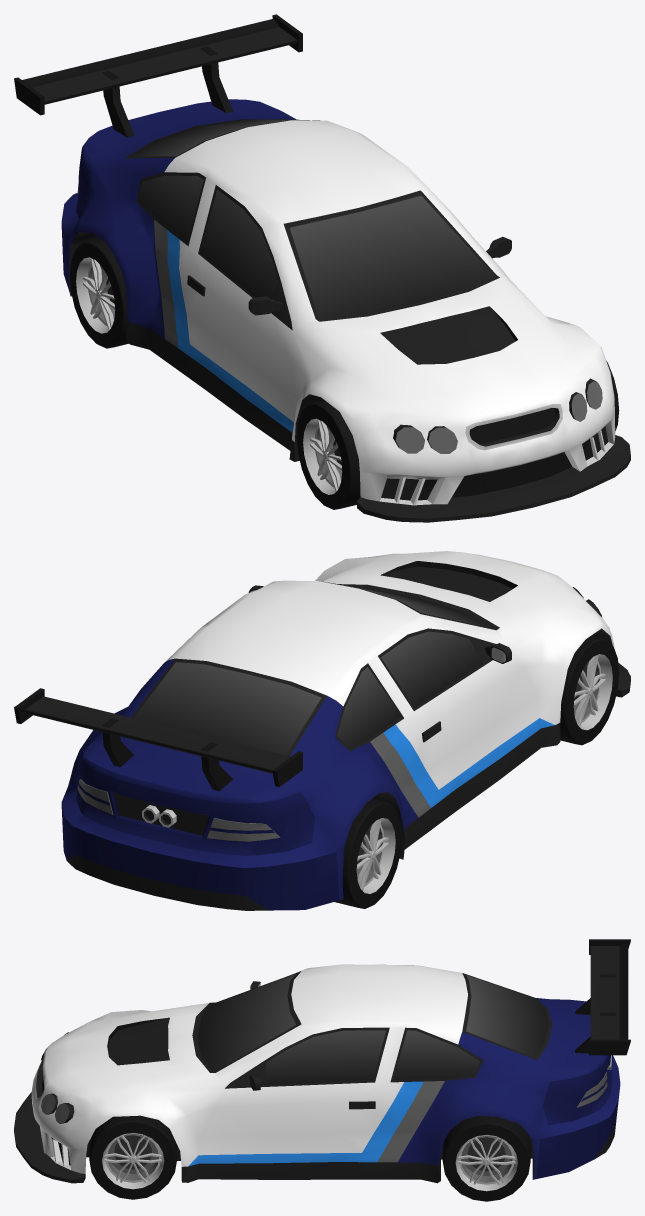
File: PaoChe00_5.fbx
The picture shows the model from 3 angles, top to bottom: view 1: azimuth 30°, elevation 25°; view 2: azimuth 150°, elevation 25°; view 3: azimuth 270°, elevation 25°; orthographic projection. The views are drawn at different scales.
Parts seen in each view (by area): view 1: PaoChe00_5; view 2: PaoChe00_5; view 3: PaoChe00_5.
Part boxes in pixels (x1=…): PaoChe00_5: x1=14, y1=14, x2=630, y2=522; PaoChe00_5: x1=14, y1=551, x2=630, y2=910; PaoChe00_5: x1=14, y1=939, x2=630, y2=1201.
Size of the model in its own units: 311 by 213 by 743.
